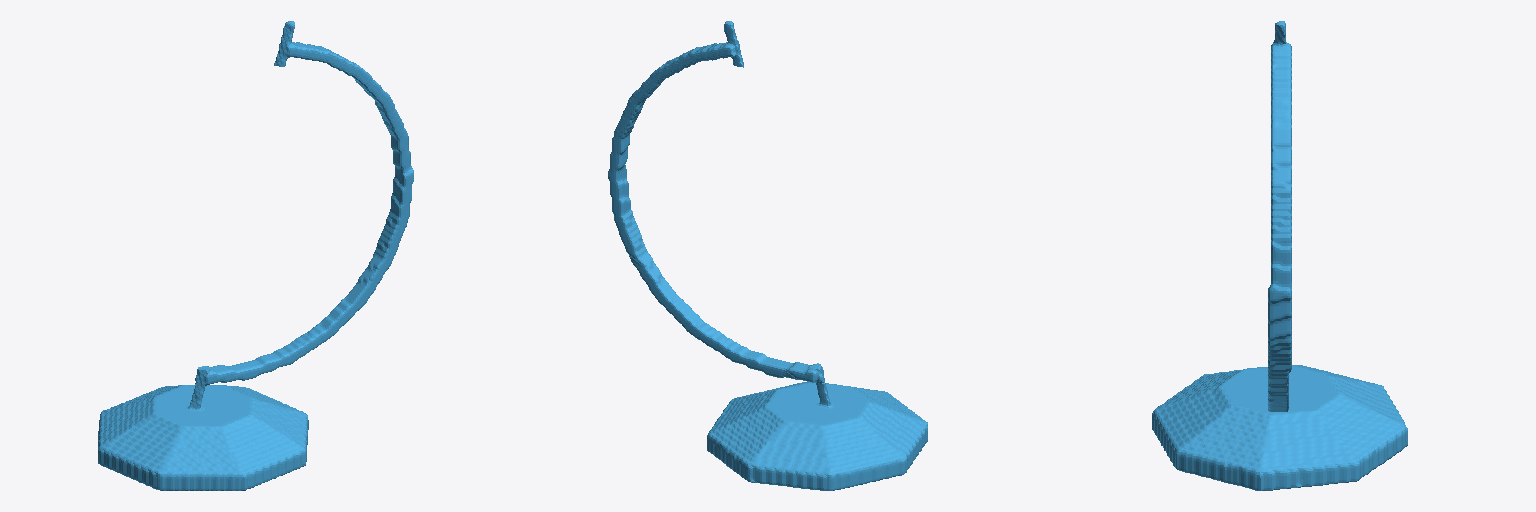
URDF robot description (object):
<?xml version='1.0' encoding='utf-8'?>
<robot name="object">
  <link name="base">
    <inertial>
      <origin xyz="0 0 0" rpy="0 0 0" />
      <mass value="0.0" />
      <inertia ixx="0" ixy="0" ixz="0" iyy="0" iyz="0" izz="0" />
    </inertial>
  </link>
  <link name="link_1">
    <visual>
      <origin xyz="0 0 0" rpy="0 0 0" />
      <geometry>
        <mesh filename="meshes/link_1.stl" />
      </geometry>
    </visual>
    <collision>
      <origin xyz="0 0 0" rpy="0 0 0" />
      <geometry>
        <mesh filename="meshes/link_1.stl" />
      </geometry>
    </collision>
    <inertial>
      <origin xyz="-0.128654223 0.00574132954 -0.649306765" rpy="0 0 0" />
      <mass value="78.0092556" />
      <inertia ixx="10.7105305" ixy="-0.0019015186" ixz="-4.27229297" iyy="13.7008788" iyz="-0.0105959508" izz="8.02366287" />
    </inertial>
  </link>
  <link name="link_2">
    <visual>
      <origin xyz="-0.159461204 -0.00893195752 -0.736343307" rpy="0 0 0" />
      <geometry>
        <mesh filename="meshes/link_2.stl" />
      </geometry>
    </visual>
    <collision>
      <origin xyz="-0.159461204 -0.00893195752 -0.736343307" rpy="0 0 0" />
      <geometry>
        <mesh filename="meshes/link_2.stl" />
      </geometry>
    </collision>
    <inertial>
      <origin xyz="-0.154459635 0.0148976228 -0.593632586" rpy="0 0 0" />
      <mass value="923.043367" />
      <inertia ixx="134.236633" ixy="0.0212454683" ixz="0.256286458" iyy="134.163694" iyz="0.0108528901" izz="134.907962" />
    </inertial>
  </link>
  <joint name="joint_1_2" type="revolute">
    <parent link="link_1" />
    <child link="link_2" />
    <origin xyz="0.159461204 0.00893195752 0.736343307" rpy="0 0 0" />
    <axis xyz="-0.271049574 -0.00396471424 -0.962557224" />
    <limit lower="-1.57" upper="1.57" effort="10.0" velocity="1.0" />
  </joint>
  <joint name="base_to_1" type="fixed">
    <parent link="base" />
    <child link="link_1" />
    <origin xyz="0 0 0" rpy="0 0 0" />
  </joint>
</robot>

--- Facts derived from the render (not from the file) ---
3 views of the same robot in one strip: view 1: azimuth 30°, elevation 25°; view 2: azimuth 150°, elevation 25°; view 3: azimuth 270°, elevation 25° (orthographic).
Robot: object — 3 links, 2 joints (1 revolute, 1 fixed); root link base; default pose: every joint at zero.
Links seen in each view (by area): view 1: link_1; view 2: link_1; view 3: link_1.
Boxes of the visible links, x1,y1,x2,y2 form: link_1: (98,21,413,490); link_1: (608,21,927,490); link_1: (1152,21,1407,490).
Bounding box of the posed robot: 1.35 × 0.8573 × 1.72 m (x, y, z).
1 mesh visuals loaded from 2 distinct referenced files (1 binary STL); not drawn: 1 (reference not matched to a file when rendering).
